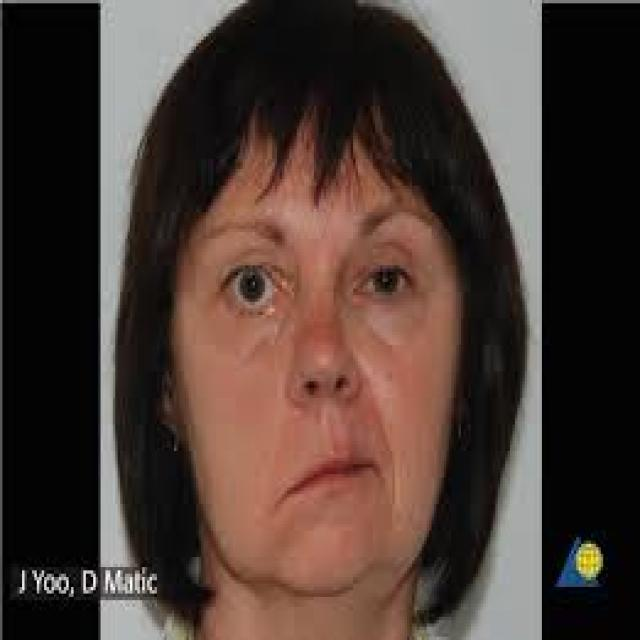stroke_face: (169, 42, 470, 602)
